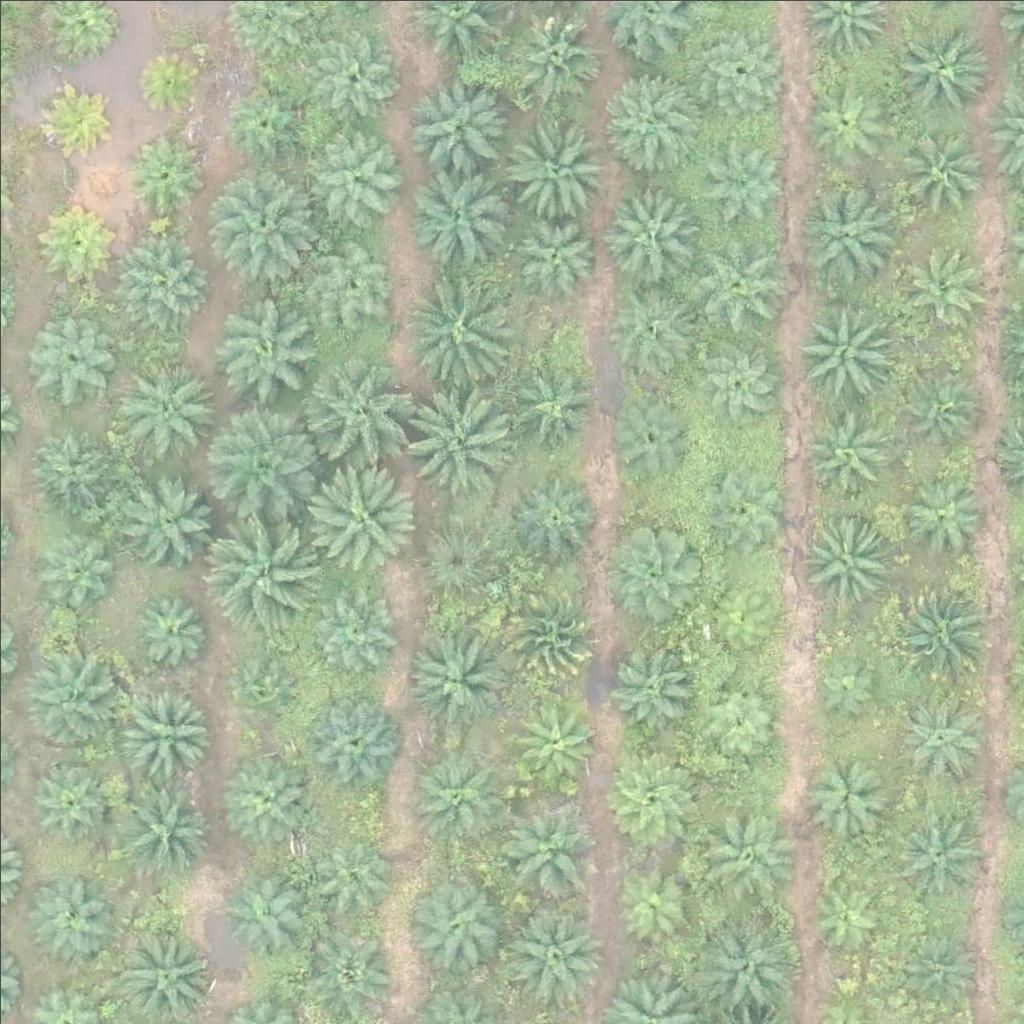Kelapa_Sawit: (403, 378, 516, 492), (208, 402, 321, 515), (207, 292, 320, 405), (206, 169, 319, 282), (297, 356, 410, 469), (301, 460, 414, 573), (407, 265, 520, 378), (202, 511, 314, 625), (27, 648, 127, 749), (118, 360, 218, 461), (300, 688, 400, 789), (408, 631, 508, 732), (411, 161, 511, 262), (406, 78, 506, 179), (504, 113, 604, 214), (600, 76, 700, 177), (795, 185, 895, 286), (893, 19, 993, 120), (888, 581, 988, 682), (691, 911, 791, 1012), (695, 797, 795, 898), (598, 750, 698, 851), (499, 802, 599, 903), (406, 879, 506, 980), (408, 746, 508, 847), (114, 920, 214, 1021), (111, 780, 211, 881), (113, 682, 213, 782), (119, 466, 219, 566), (604, 520, 704, 620), (495, 585, 595, 685), (683, 231, 783, 331), (794, 512, 894, 612), (794, 303, 894, 403), (886, 118, 986, 218), (504, 901, 604, 1001), (221, 79, 309, 167), (30, 528, 118, 616), (418, 511, 506, 599), (606, 395, 694, 483), (513, 365, 601, 453), (311, 123, 399, 211), (310, 31, 398, 119), (309, 580, 397, 668), (513, 695, 601, 783), (508, 472, 596, 560), (508, 215, 596, 303), (692, 333, 780, 421), (700, 130, 788, 218), (696, 26, 784, 114), (902, 468, 990, 556), (897, 244, 985, 332), (895, 811, 983, 899), (305, 923, 393, 1011), (224, 864, 312, 952), (695, 674, 783, 762), (28, 423, 115, 511), (118, 243, 205, 331), (31, 312, 118, 400), (306, 234, 393, 322), (514, 9, 601, 97), (614, 644, 701, 732), (608, 286, 695, 374), (700, 462, 787, 550), (605, 185, 692, 273), (798, 414, 885, 502), (801, 76, 888, 164), (892, 365, 979, 453), (892, 697, 979, 785), (902, 927, 989, 1015), (803, 750, 890, 838), (704, 561, 791, 649), (606, 864, 693, 952), (308, 828, 395, 916), (218, 748, 305, 836), (25, 756, 112, 844), (25, 874, 112, 962), (133, 590, 208, 666), (34, 81, 109, 157), (808, 881, 883, 957), (807, 650, 882, 725), (124, 140, 199, 215), (132, 43, 207, 118), (34, 204, 109, 279), (235, 659, 297, 722)
